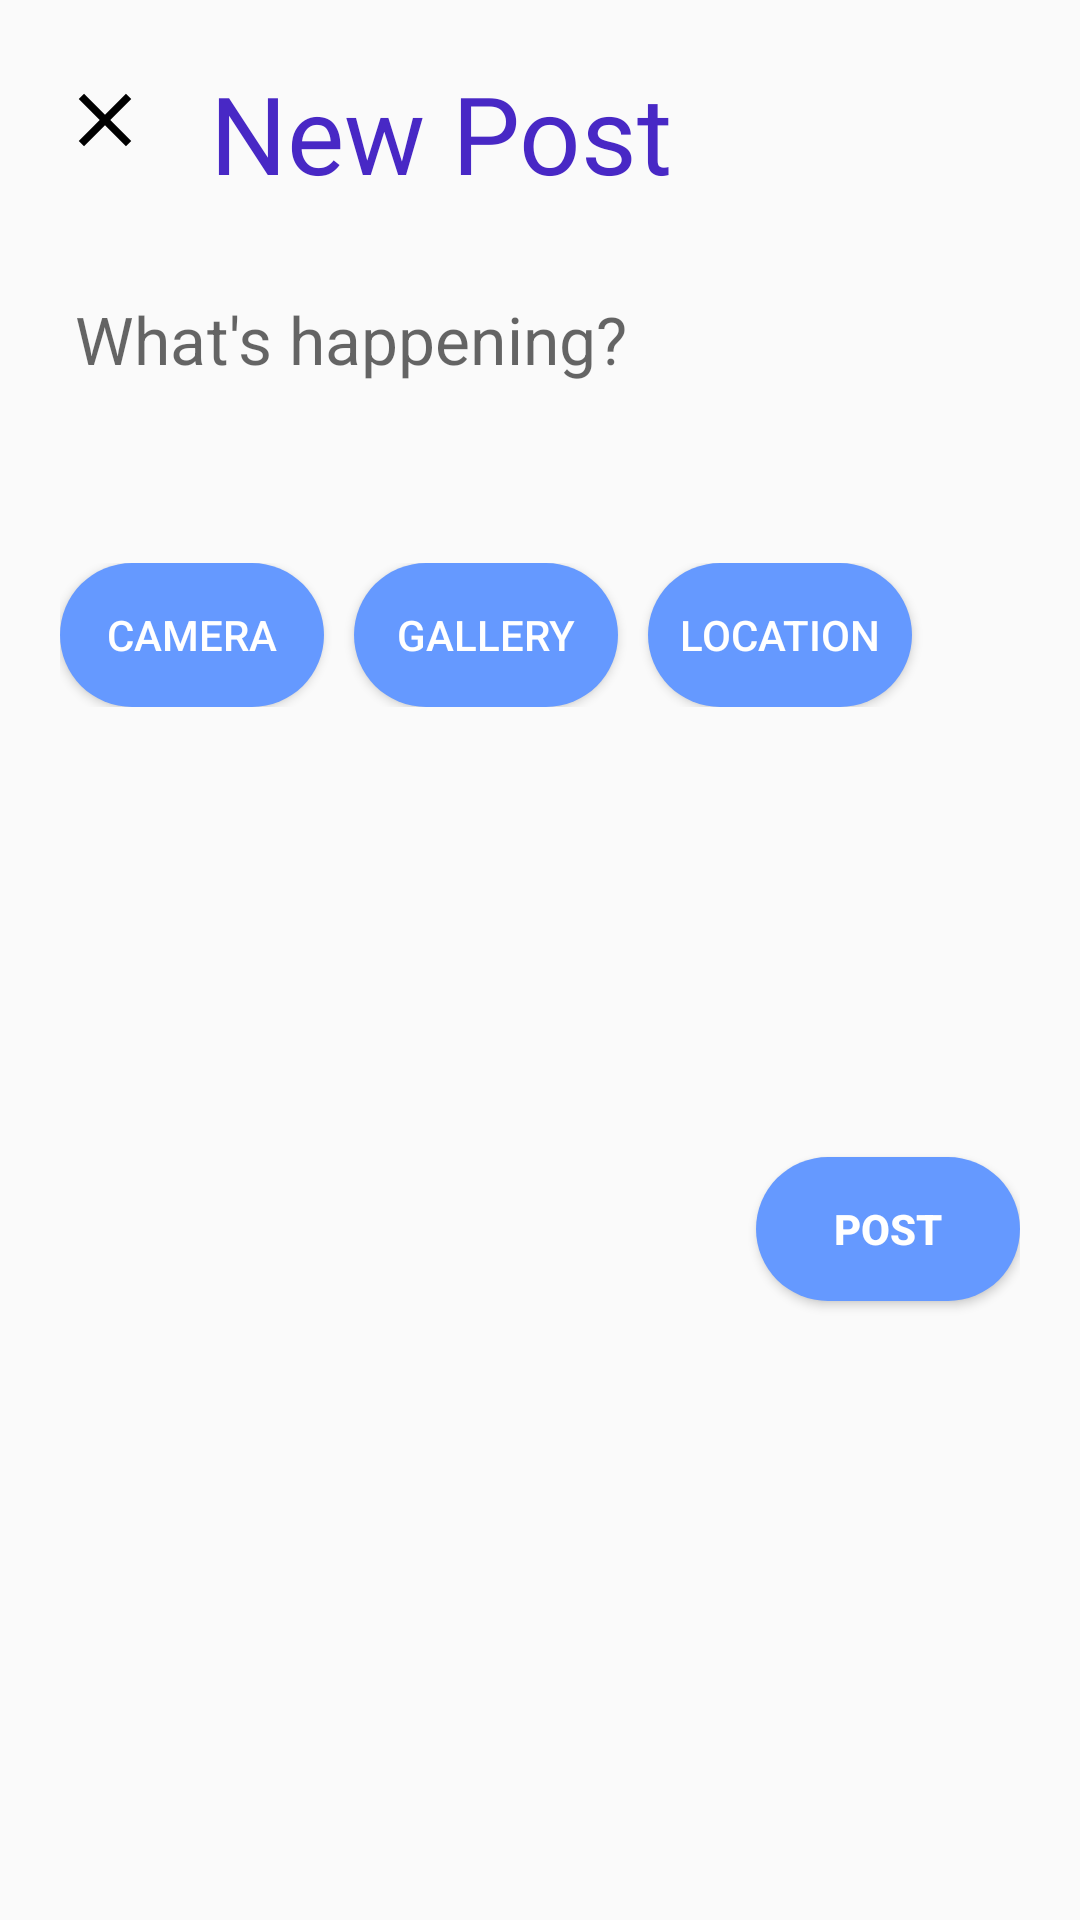

Icon click points for this 1080px×1920px phone screenshot, format point (x, y):
close: point (105, 120)
